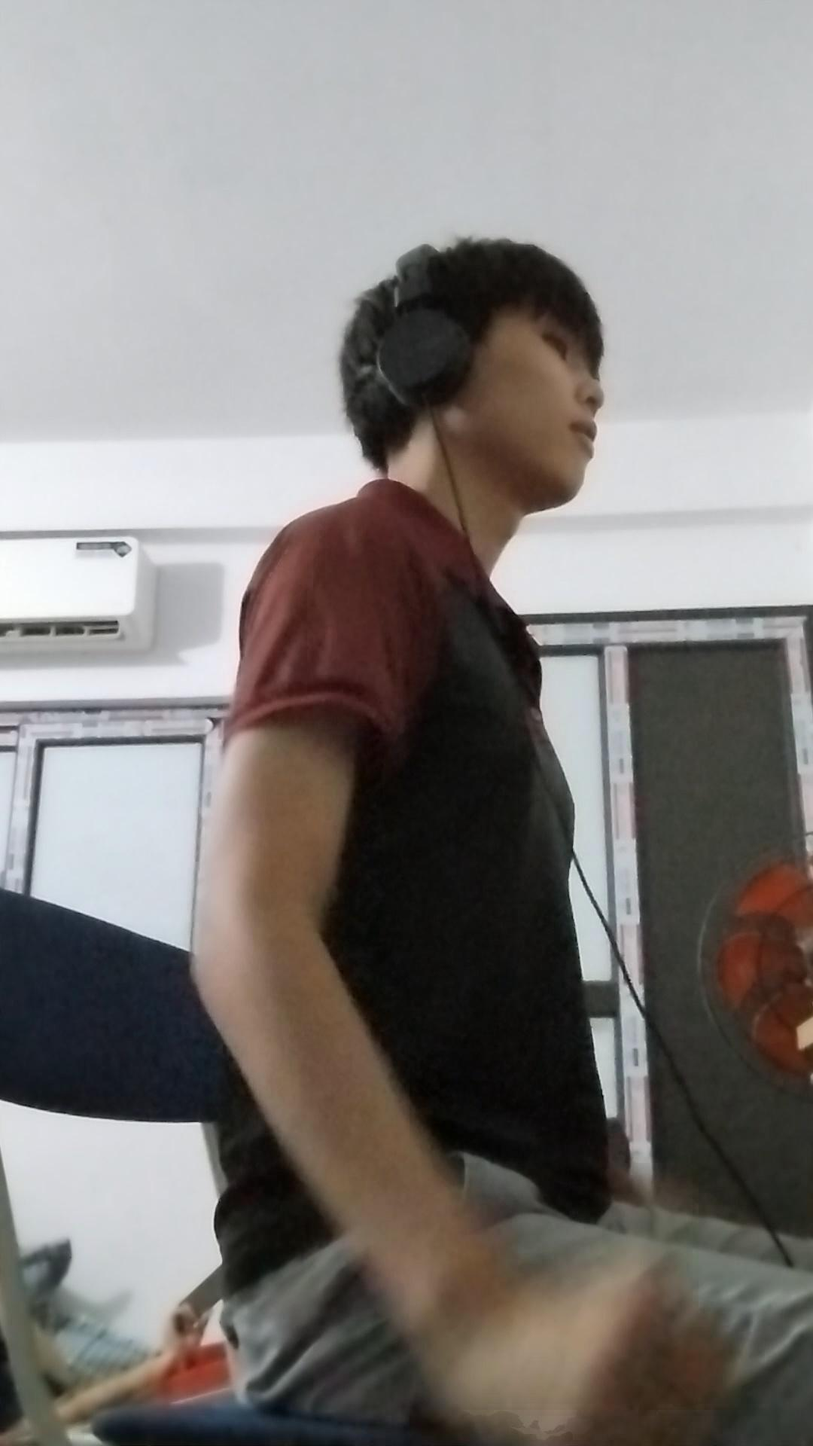GoodPosture: (193, 239, 812, 1445)
